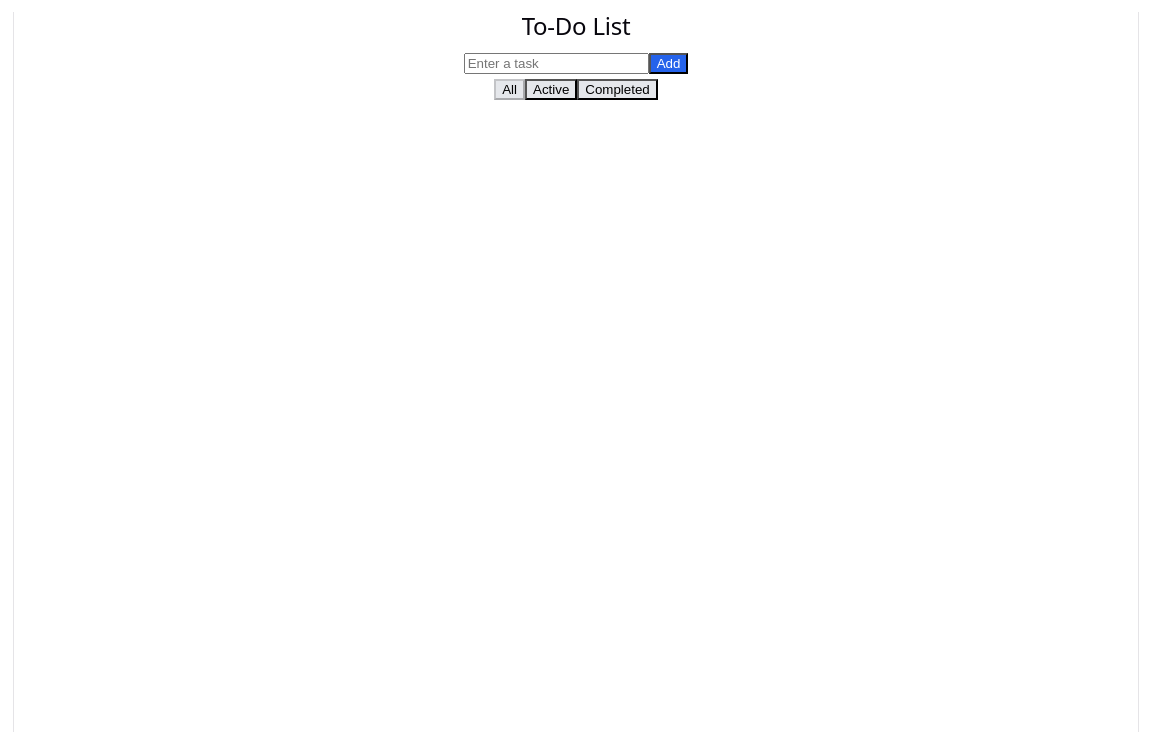
Test case: deletes a todo
This screenshot has width=1152, height=732.
Type "Study React" into the field with placeholder "Enter a task". click: (556, 64)
box: [464,53,649,74]
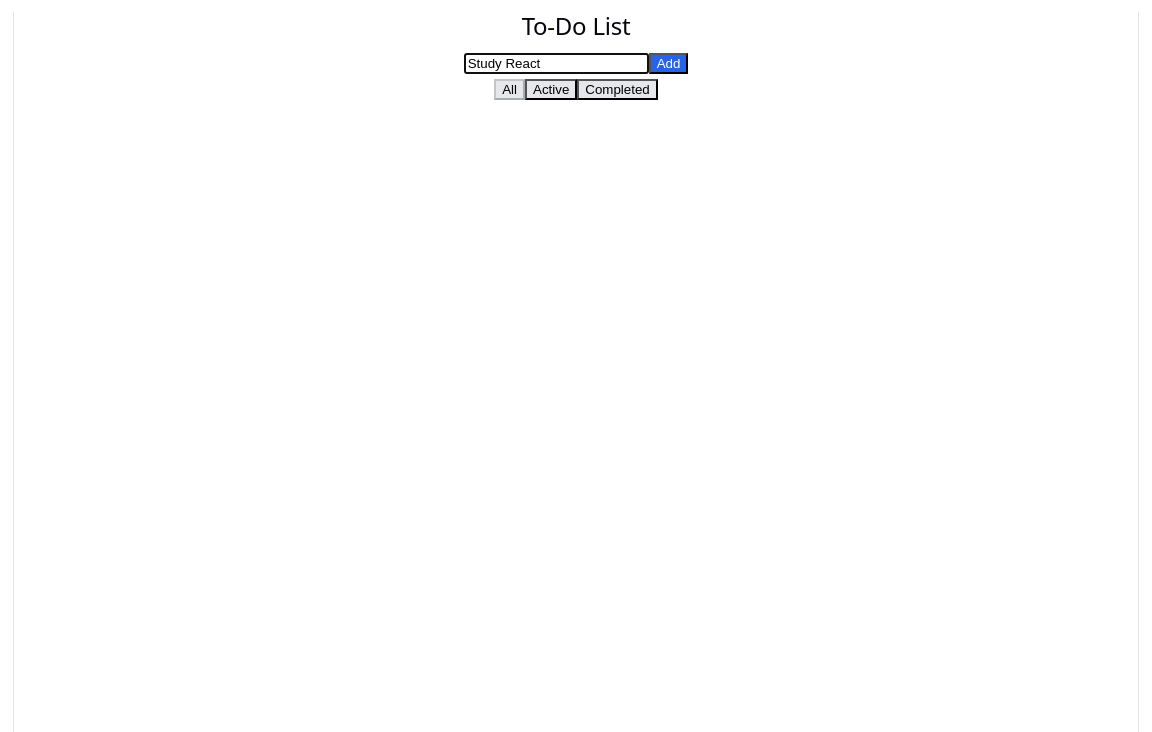
Click the button "Add". click: (668, 64)
box: [649,53,688,74]
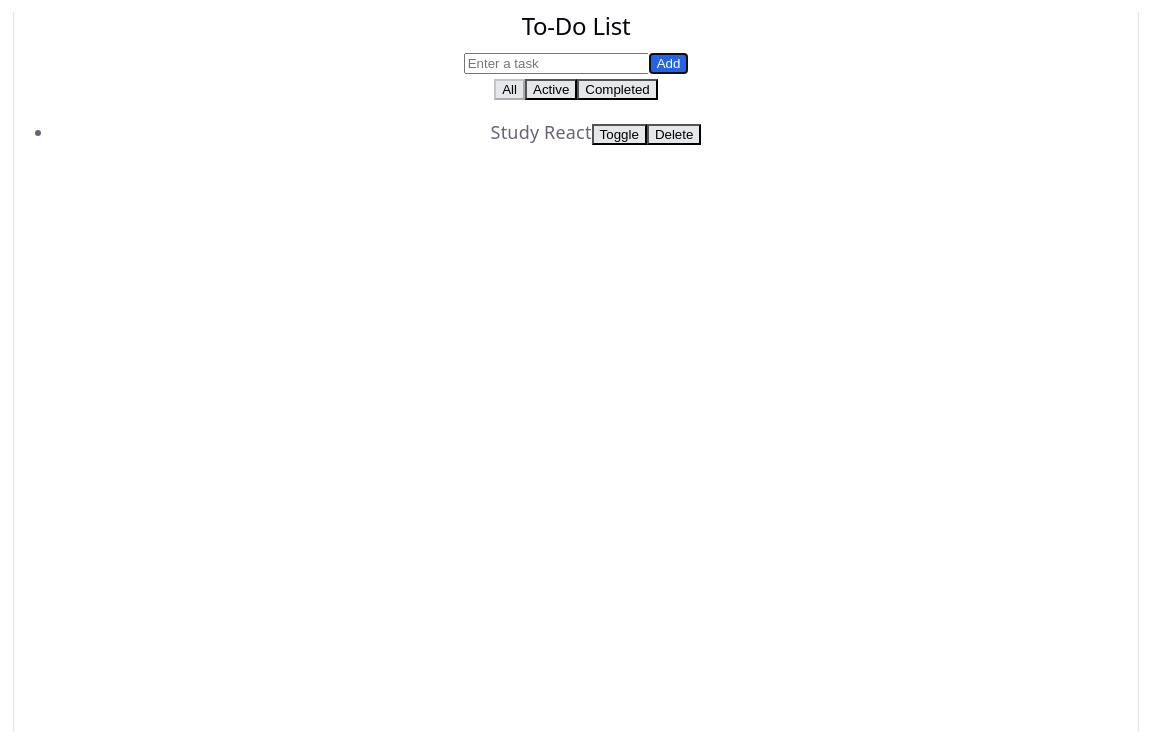
Result: the text "Study React" is shown at [491,120,592,144]
Click the button "Delete". click: (674, 134)
box: [647,124,701,144]
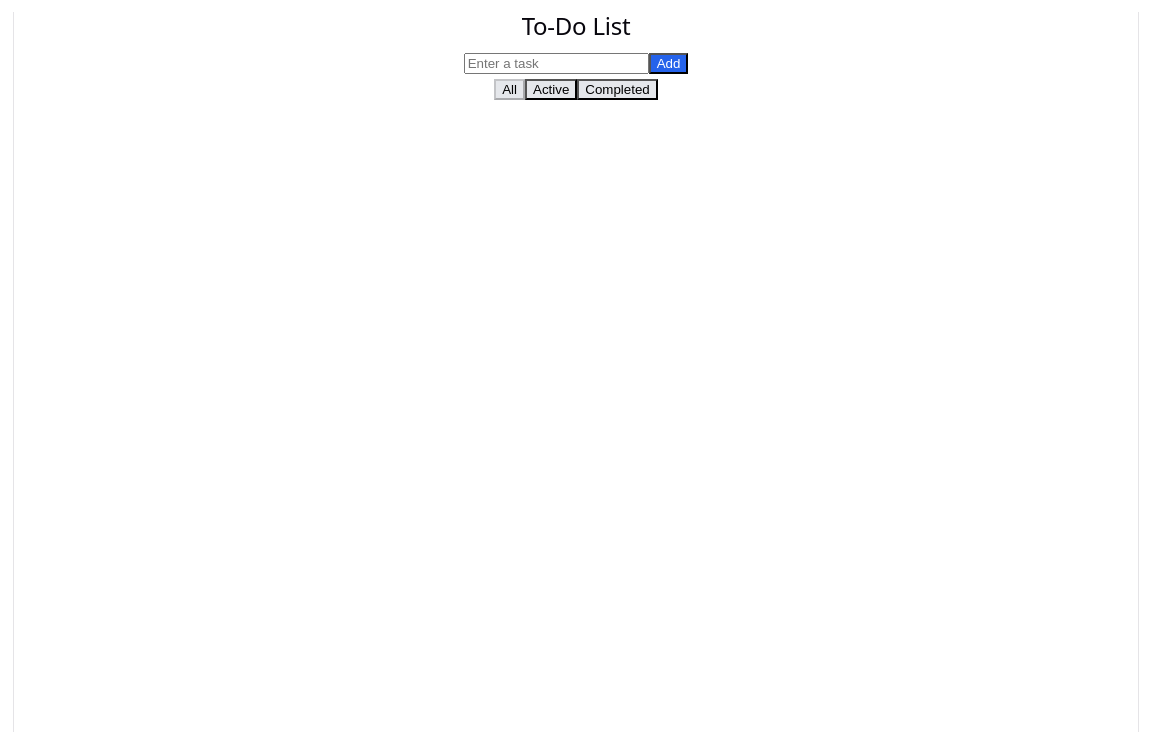
Result: the text "Study React" is gone
